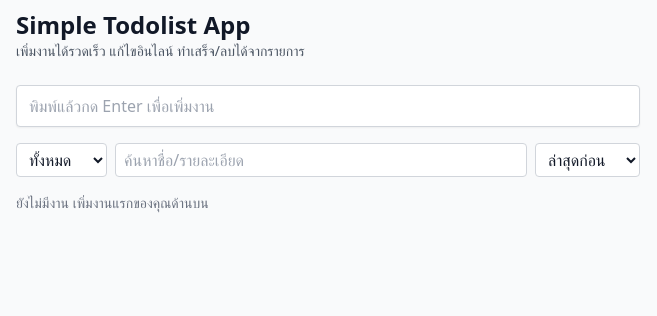
Scenario: A11y/Keyboard - Inline edit flows › Enter saves edit, Esc cancels
This screenshot has width=657, height=316.
Type "Edit me" into the field named "เพิ่มงานใหม่" at (328, 106), box [16, 85, 640, 127]
Then press Enter
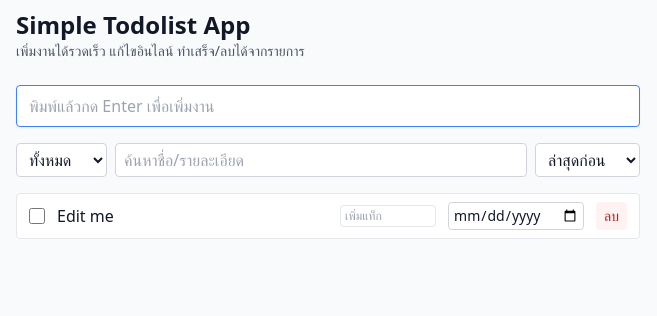
Type "Cancel me" into the field named "เพิ่มงานใหม่" at (328, 106), box [16, 85, 640, 127]
Then press Enter
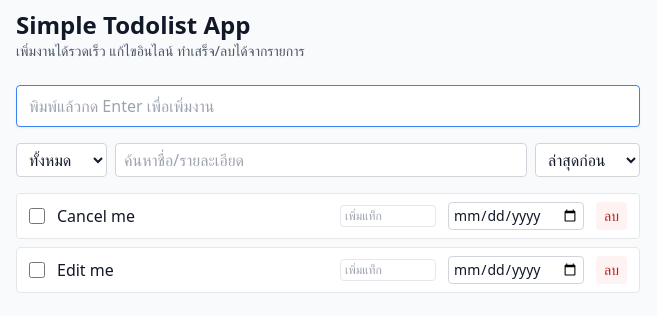
Start editing the item with text 'Edit me'
Click the button "Edit me" at (85, 270), box [57, 258, 328, 282]
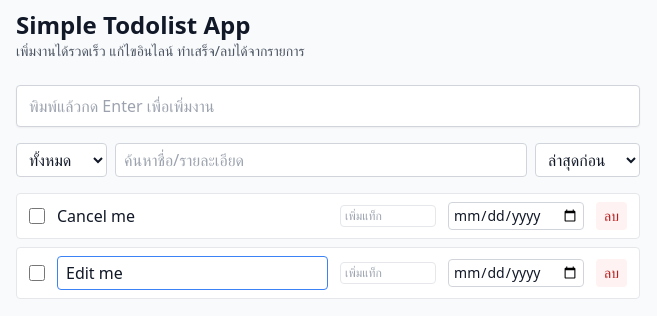
Type " updated" into the field showing "Edit me" at (193, 273), box [57, 256, 328, 290]
Then press Enter
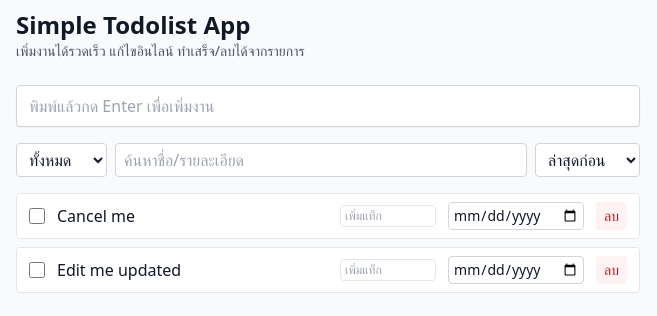
Result: the button "Edit me updated" is shown at [57, 258, 328, 282]
Start editing second item, then cancel
Click the button "Cancel me" at (96, 216), box [57, 204, 328, 228]
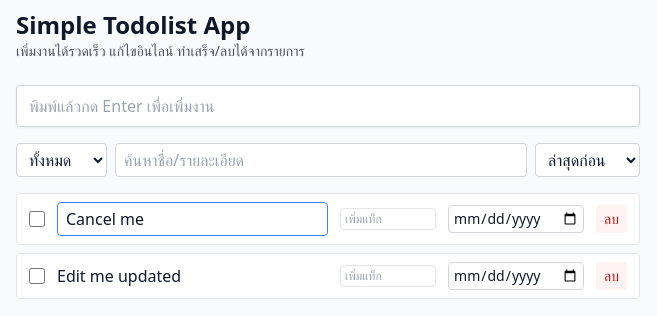
Type " changed" into the field showing "Cancel me" at (193, 219), box [57, 202, 328, 236]
Then press Escape
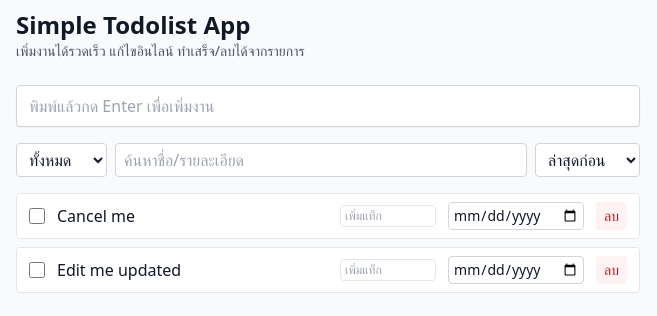
Result: the button "Cancel me" is shown at [57, 204, 328, 228]
